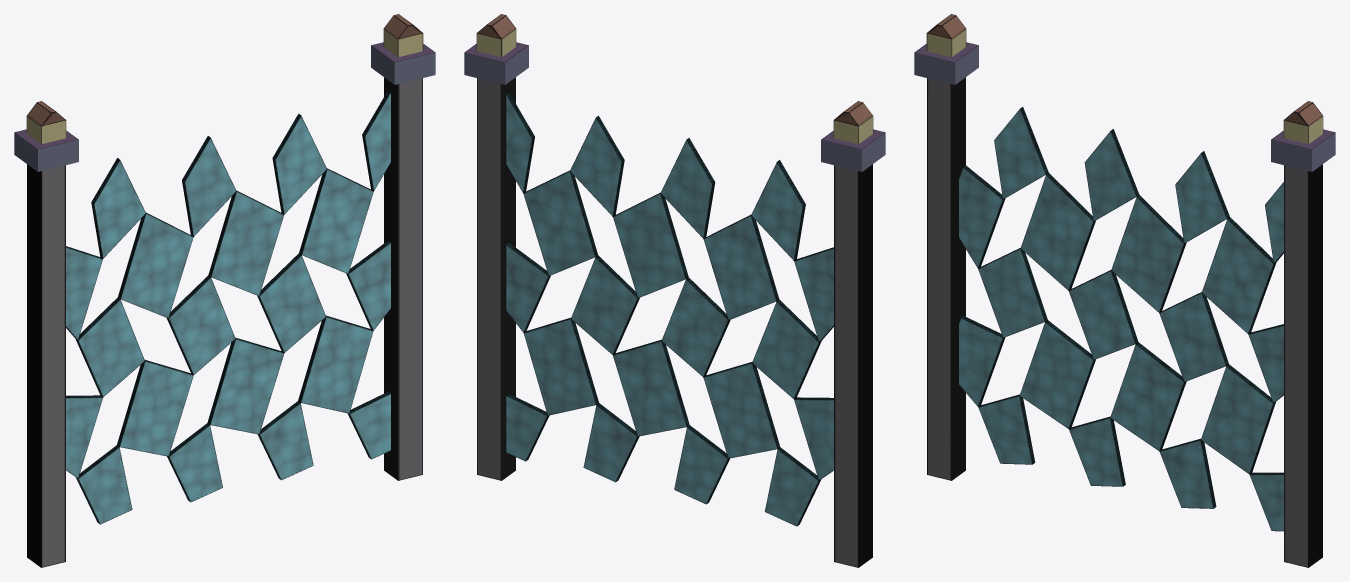
File: Fence.glb
The picture shows the model from 3 angles, left to right: view 1: azimuth 30°, elevation 25°; view 2: azimuth 150°, elevation 25°; view 3: azimuth 330°, elevation 25°; orthographic projection.
Parts seen in each view (by area): view 1: Fence; view 2: Fence; view 3: Fence.
Part boxes in pixels (x1,y1,x2,y2): Fence: [14, 14, 435, 567]; Fence: [464, 14, 885, 567]; Fence: [914, 14, 1335, 567].
Size of the model in its own units: 5.07 by 5.51 by 0.5234.
1 material, 1 textured.
